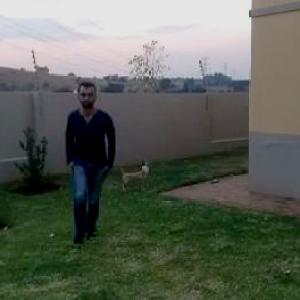follow: (64, 74, 119, 244)
